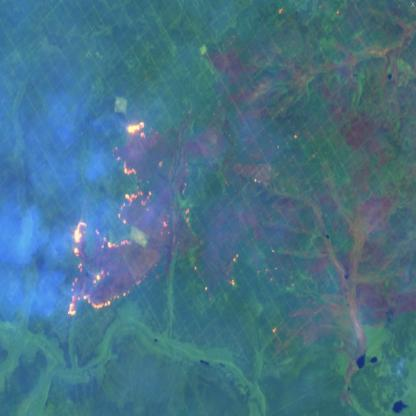fire: (64, 115, 168, 324)
